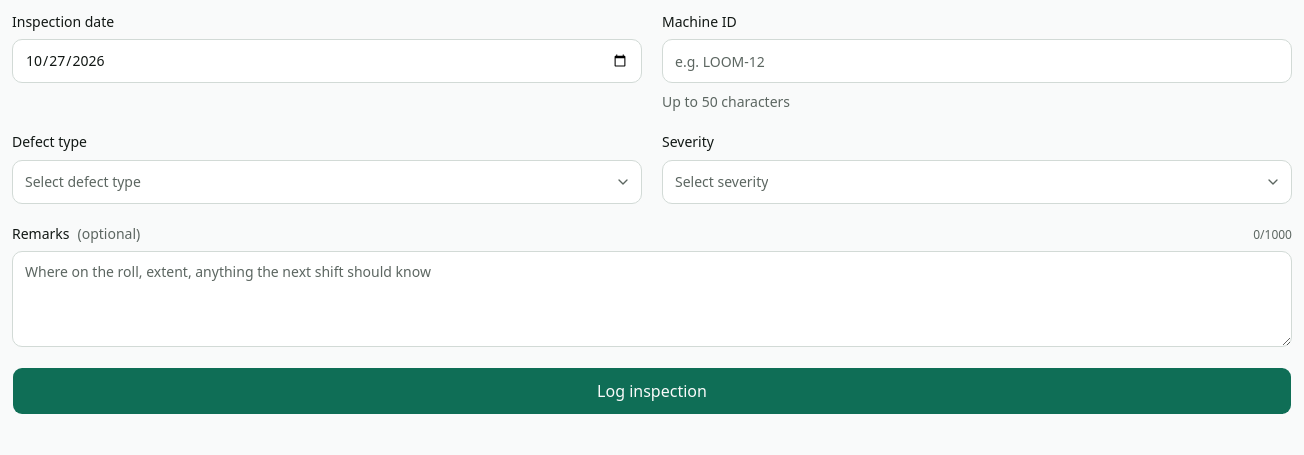
Test: InspectionForm › maps 422 validation details from the API onto fields
Type "LOOM-99" into the field labelled "Machine ID" at [977, 61], box [662, 39, 1292, 83]
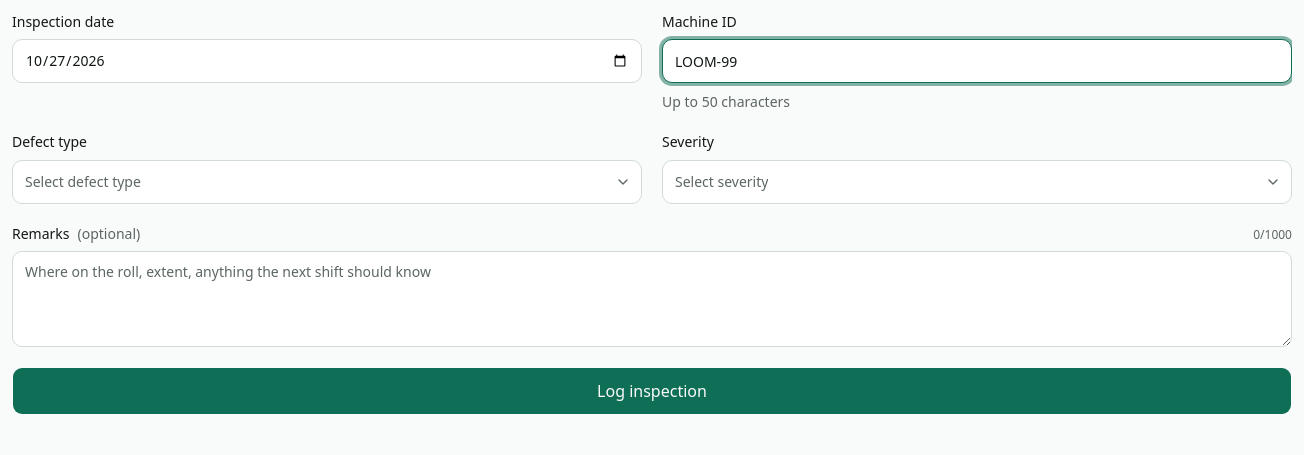
Click the dropdown labelled "defect type" at [83, 181], box [12, 160, 642, 204]
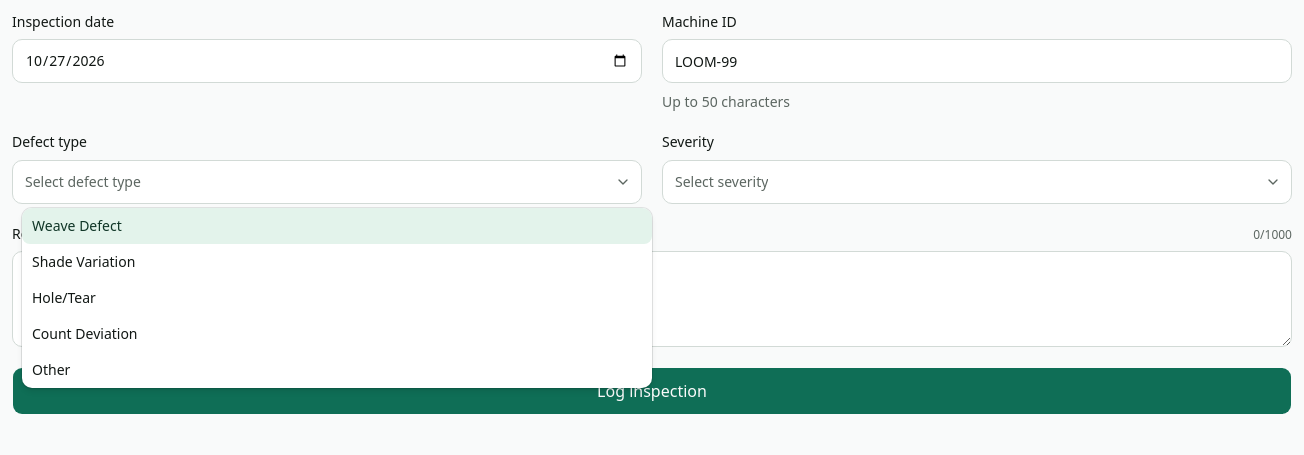
Click the option "Other" at [51, 370], box [32, 360, 70, 379]
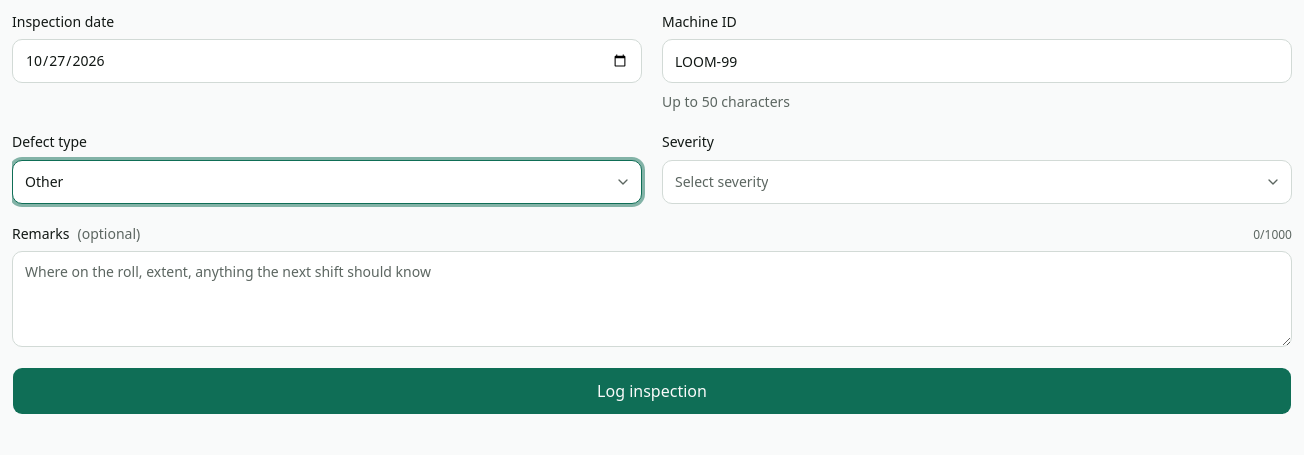
Click the dropdown labelled "severity" at [722, 181], box [662, 160, 1292, 204]
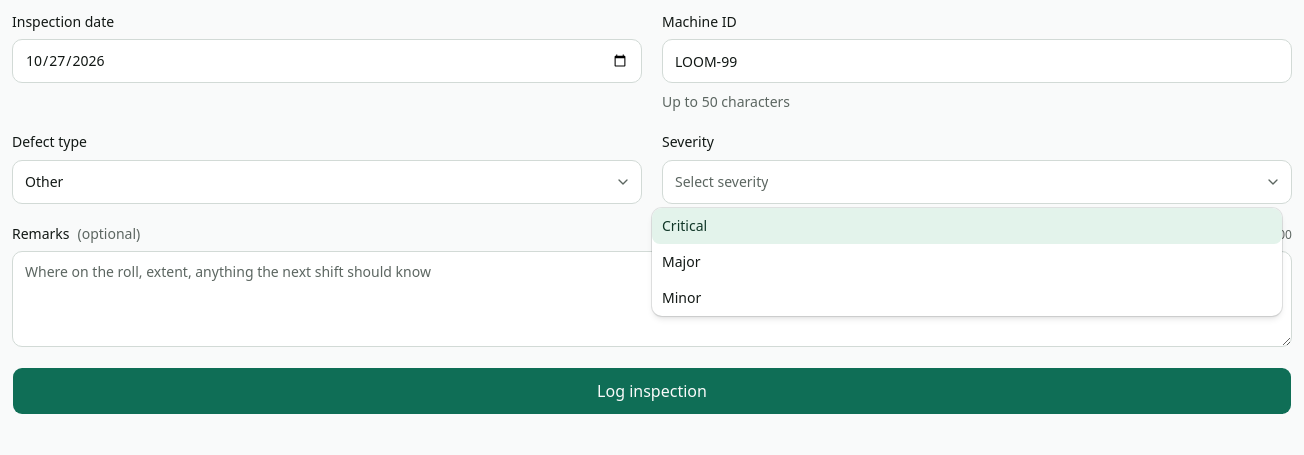
Click the option "Minor" at [682, 298], box [662, 288, 701, 307]
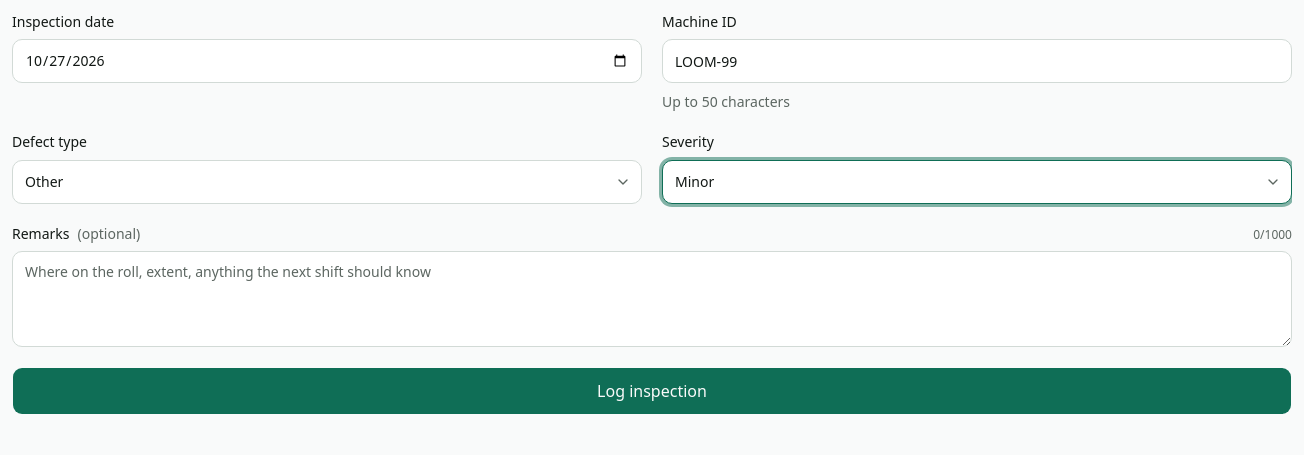
Click the button "Log inspection" at [652, 391], box [12, 367, 1292, 415]
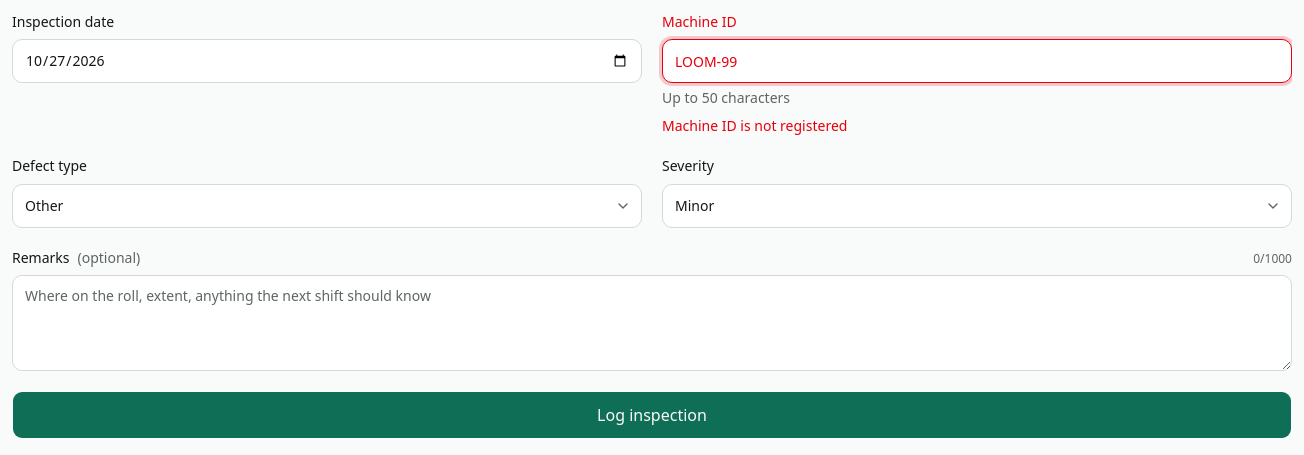
expect the text "Machine ID is not registered" is shown: met, box [662, 116, 847, 135]
